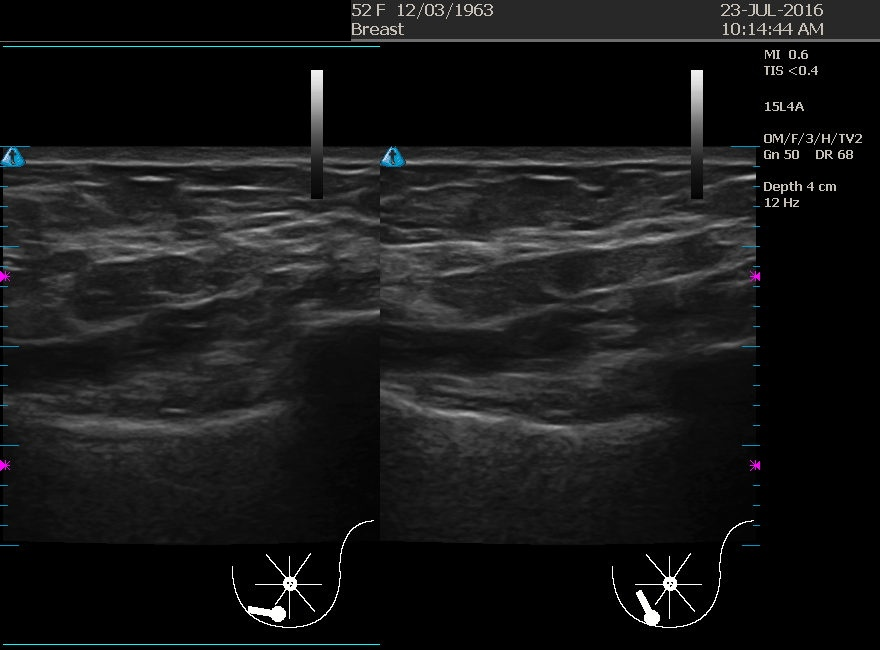BIRADS_3: (32, 193, 232, 393), (475, 202, 675, 402)
